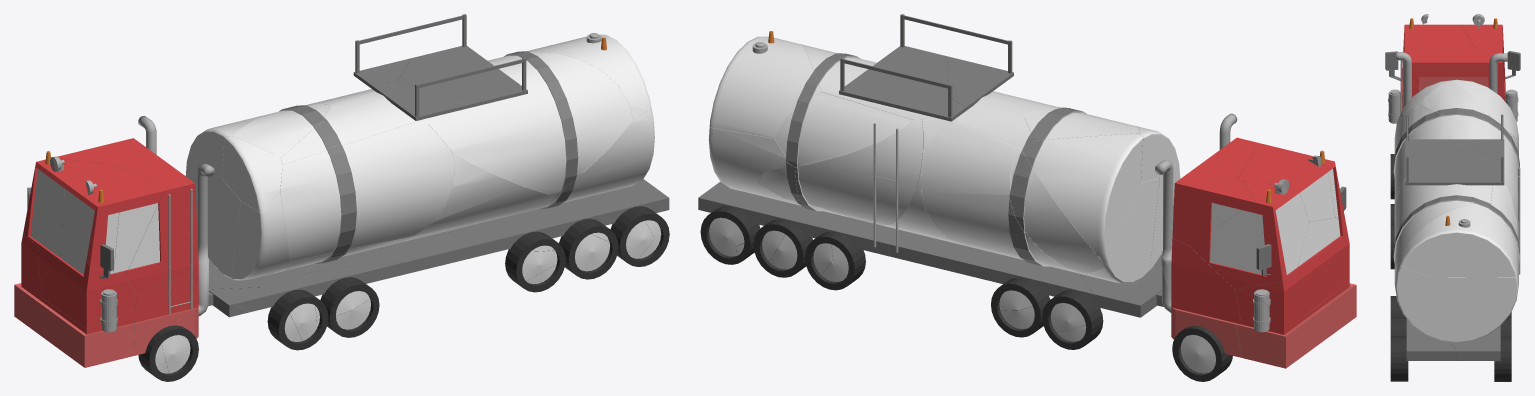
The model's file is Oil Red Shatter.fbx.
3 views of the same model, side by side, from view 1: azimuth 30°, elevation 25°; view 2: azimuth 150°, elevation 25°; view 3: azimuth 270°, elevation 25° (orthographic). The views are drawn at different scales.
Parts seen in each view (by area): view 1: Cylinder.015_cell.005, Cylinder.015_cell.016, Truck Body.005_cell.026, Truck Body.005_cell.006, Truck Body.005_cell.010, Cylinder.015_cell.001, Cube.003_cell.001, Cylinder.015_cell, Cylinder.015_cell.015, Truck Body.005_cell.009, Cylinder.015_cell.003, Truck Body.005_cell (+35 smaller); view 2: Cylinder.015_cell.022, Cylinder.015_cell.018, Cylinder.015_cell.021, Cylinder.015_cell.017, Truck Body.005_cell.013, Cylinder.015_cell.009, Truck Body.005_cell.020, Truck Body.005_cell.025, Cylinder.015_cell.004, Cube.003_cell.001, Truck Body.005_cell.022, Truck Body.005_cell.015 (+31 smaller); view 3: Cylinder.015_cell.017, Cylinder.015_cell.015, Cylinder.015_cell.016, Cube.003_cell.001, Cylinder.015_cell.010, Truck Body.005_cell.011, Truck Body.005_cell.026, Cylinder.015_cell.019, Cylinder.015_cell.018, Cylinder.015_cell.001, Truck Body.005_cell.003, Cube.003_cell (+28 smaller).
Boxes of the visible parts, left/top/right/bottom form: Cylinder.015_cell.005: left=280, top=119, right=454, bottom=261; Cylinder.015_cell.016: left=423, top=51, right=632, bottom=195; Truck Body.005_cell.026: left=62, top=162, right=166, bottom=276; Truck Body.005_cell.006: left=38, top=224, right=138, bottom=328; Truck Body.005_cell.010: left=125, top=186, right=198, bottom=295; Cylinder.015_cell.001: left=281, top=91, right=422, bottom=270; Cube.003_cell.001: left=398, top=14, right=527, bottom=104; Cylinder.015_cell: left=402, top=153, right=552, bottom=241; Cylinder.015_cell.015: left=543, top=108, right=654, bottom=208; Truck Body.005_cell.009: left=29, top=298, right=134, bottom=367; Cylinder.015_cell.003: left=231, top=192, right=289, bottom=280; Truck Body.005_cell: left=134, top=271, right=198, bottom=355; Cylinder.015_cell.022: left=921, top=121, right=1078, bottom=273; Cylinder.015_cell.018: left=1022, top=133, right=1142, bottom=264; Cylinder.015_cell.021: left=795, top=120, right=922, bottom=225; Cylinder.015_cell.017: left=709, top=36, right=821, bottom=138; Truck Body.005_cell.013: left=1189, top=181, right=1308, bottom=289; Cylinder.015_cell.009: left=774, top=92, right=912, bottom=167; Truck Body.005_cell.020: left=1171, top=238, right=1241, bottom=357; Truck Body.005_cell.025: left=888, top=232, right=1093, bottom=300; Cylinder.015_cell.004: left=1009, top=149, right=1106, bottom=272; Cube.003_cell.001: left=839, top=14, right=948, bottom=107; Truck Body.005_cell.022: left=1235, top=272, right=1308, bottom=368; Truck Body.005_cell.015: left=698, top=181, right=910, bottom=256; Cylinder.015_cell.017: left=1398, top=202, right=1517, bottom=277; Cylinder.015_cell.015: left=1394, top=262, right=1493, bottom=342; Cylinder.015_cell.016: left=1393, top=178, right=1492, bottom=268; Cube.003_cell.001: left=1405, top=142, right=1504, bottom=185; Cylinder.015_cell.010: left=1431, top=250, right=1519, bottom=330; Truck Body.005_cell.011: left=1409, top=45, right=1500, bottom=90; Truck Body.005_cell.026: left=1402, top=24, right=1472, bottom=90; Cylinder.015_cell.019: left=1420, top=82, right=1489, bottom=123; Cylinder.015_cell.018: left=1450, top=79, right=1518, bottom=144; Cylinder.015_cell.001: left=1415, top=103, right=1469, bottom=139; Truck Body.005_cell.003: left=1406, top=318, right=1457, bottom=360; Cube.003_cell: left=1405, top=114, right=1480, bottom=165.
Size of the model in its own units: 899 by 330 by 224.
